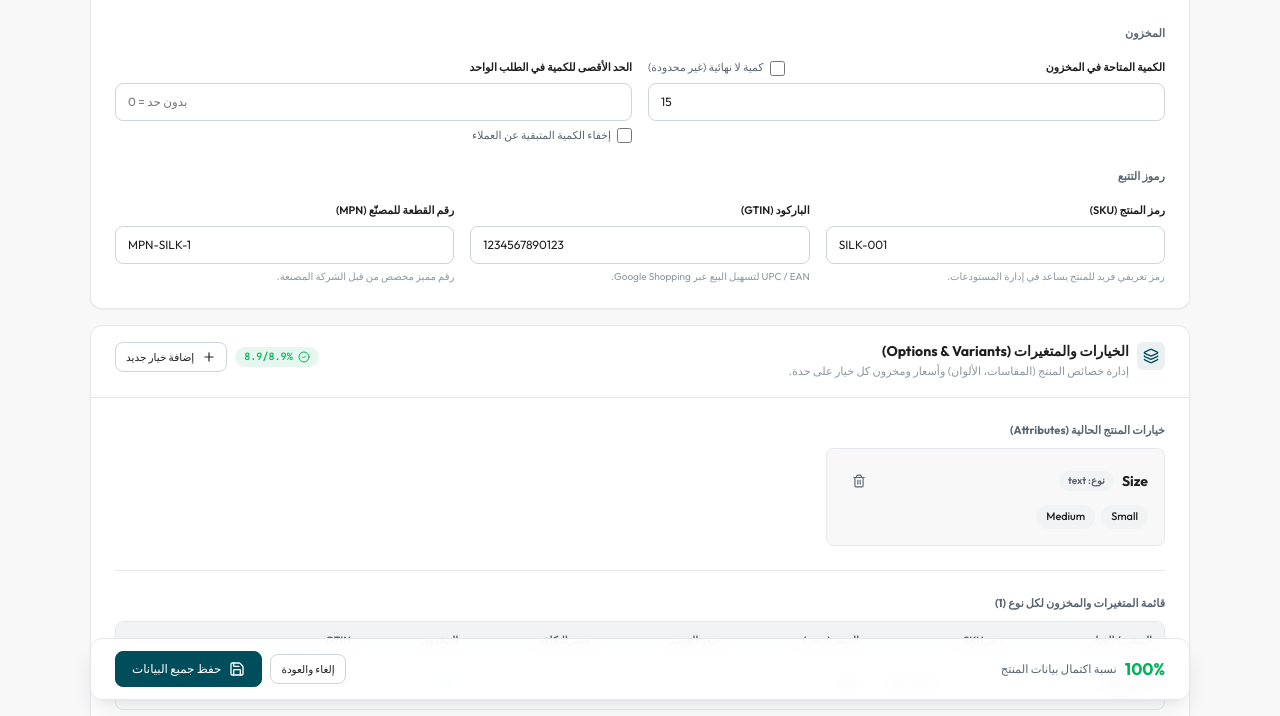
Test: ProductEditor › creates an option from the dialog without saving the product
(page scrolled)
Step 1. Click the button "إضافة خيار جديد" → (171, 357), box [115,342,227,372]
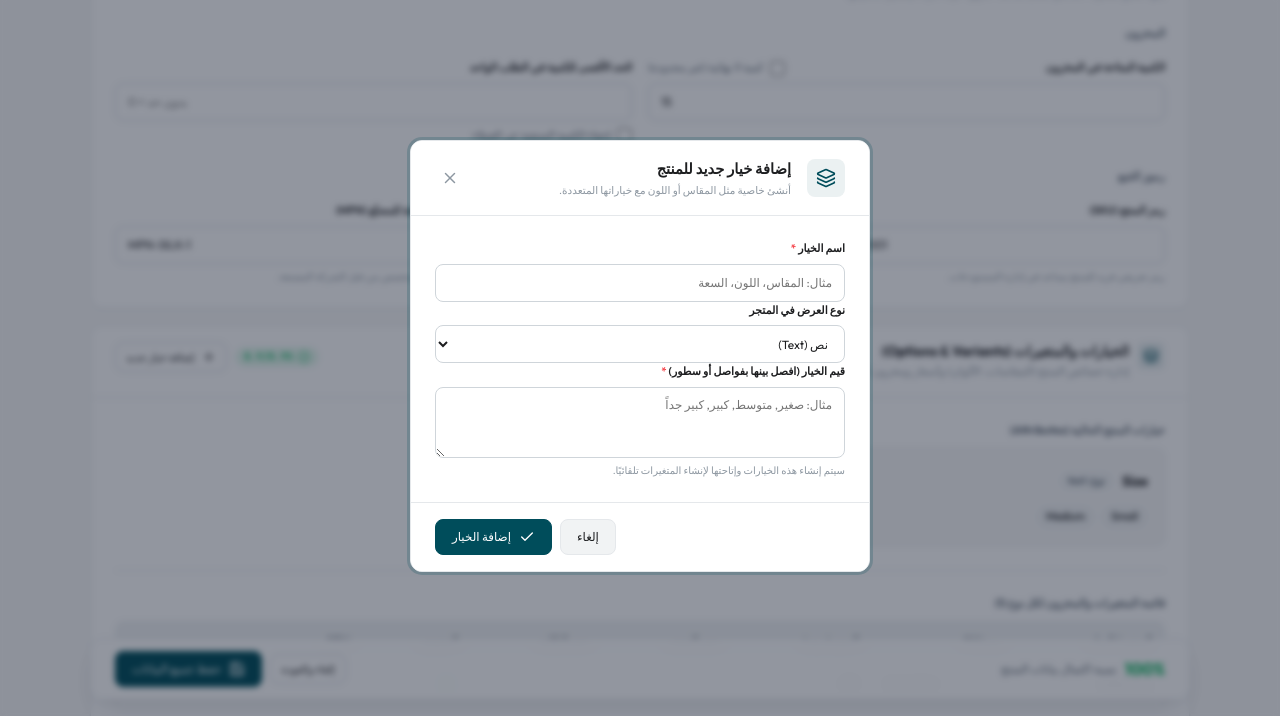
Step 2. Type "Color" into the field with placeholder "مثال: المقاس، اللون، السعة" → (640, 283), box [435,264,845,302]
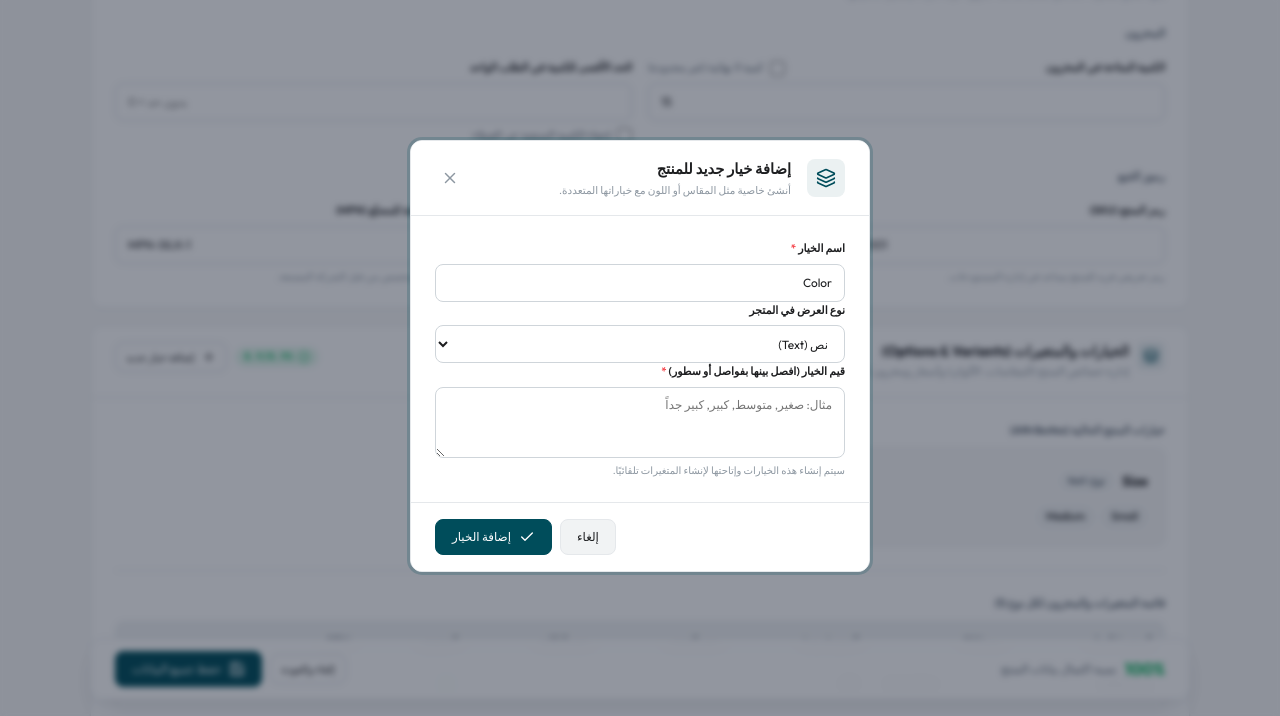
Step 3. Type "Red, Blue" into the text box with placeholder "مثال: صغير, متوسط, كبير, كبير جداً" → (640, 422), box [435,387,845,458]
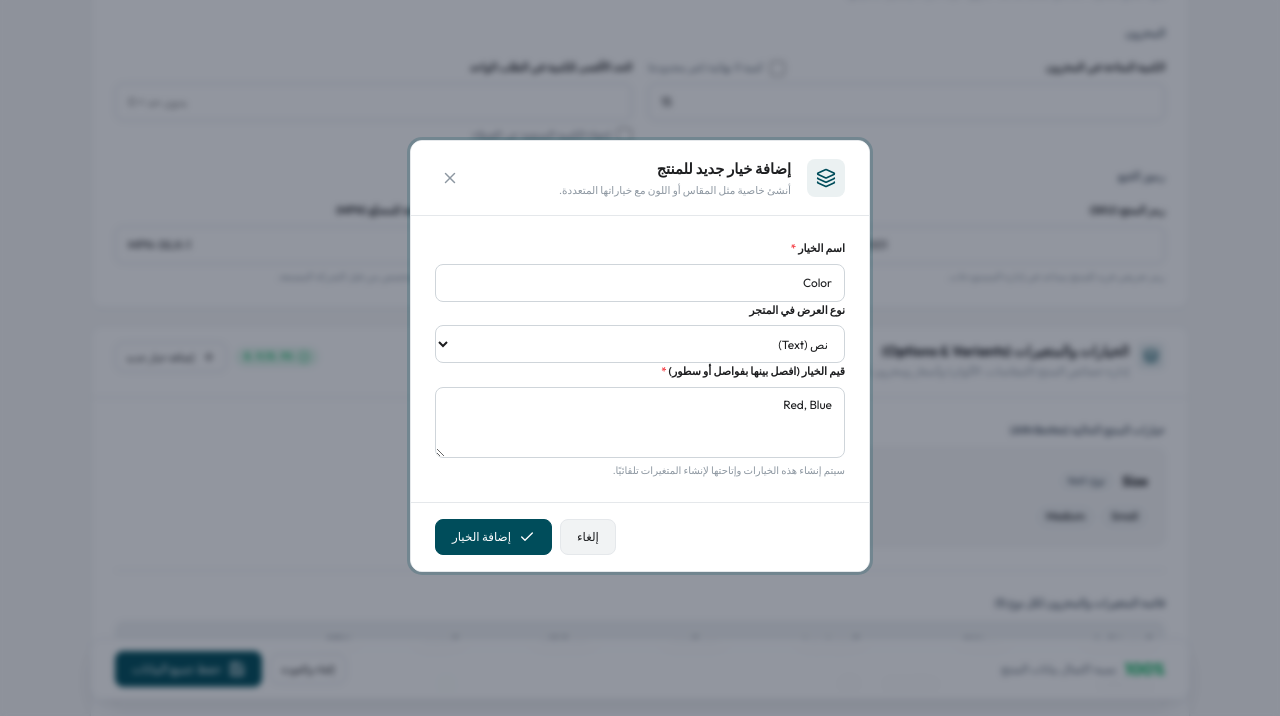
Step 4. Click the button "إضافة الخيار" → (494, 537), box [435,519,552,555]
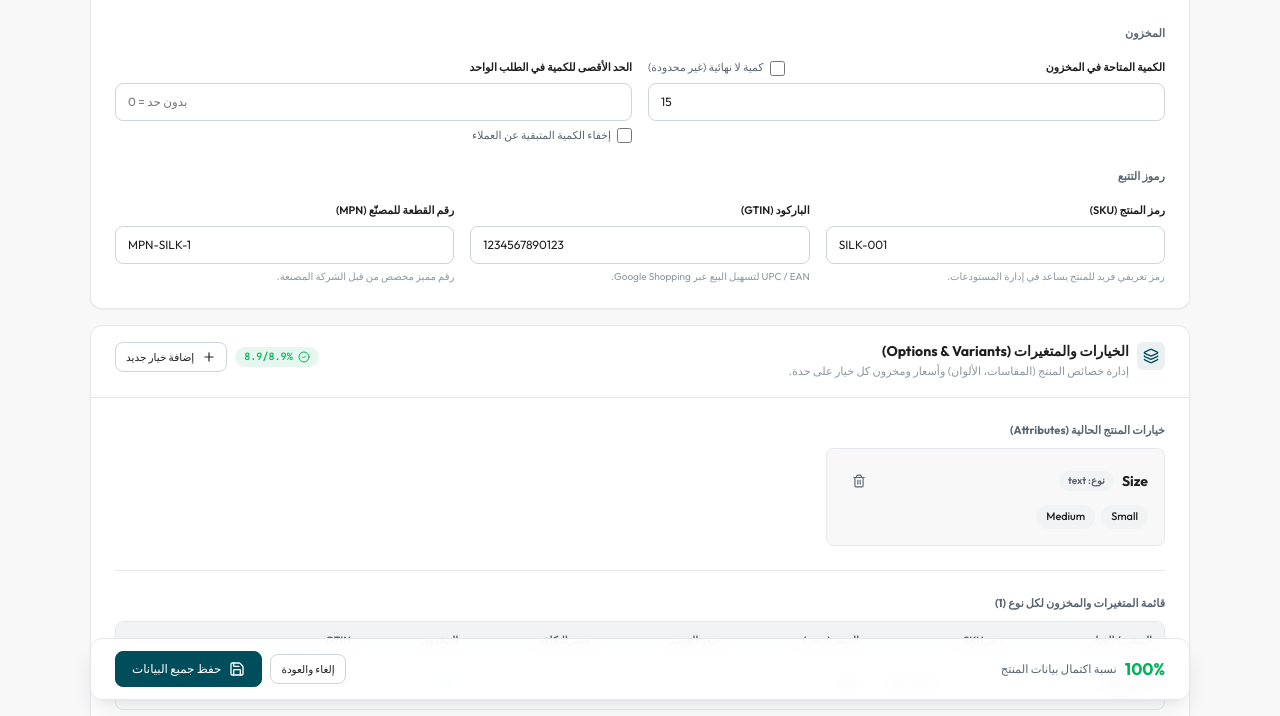
Expected: the dialog is gone
